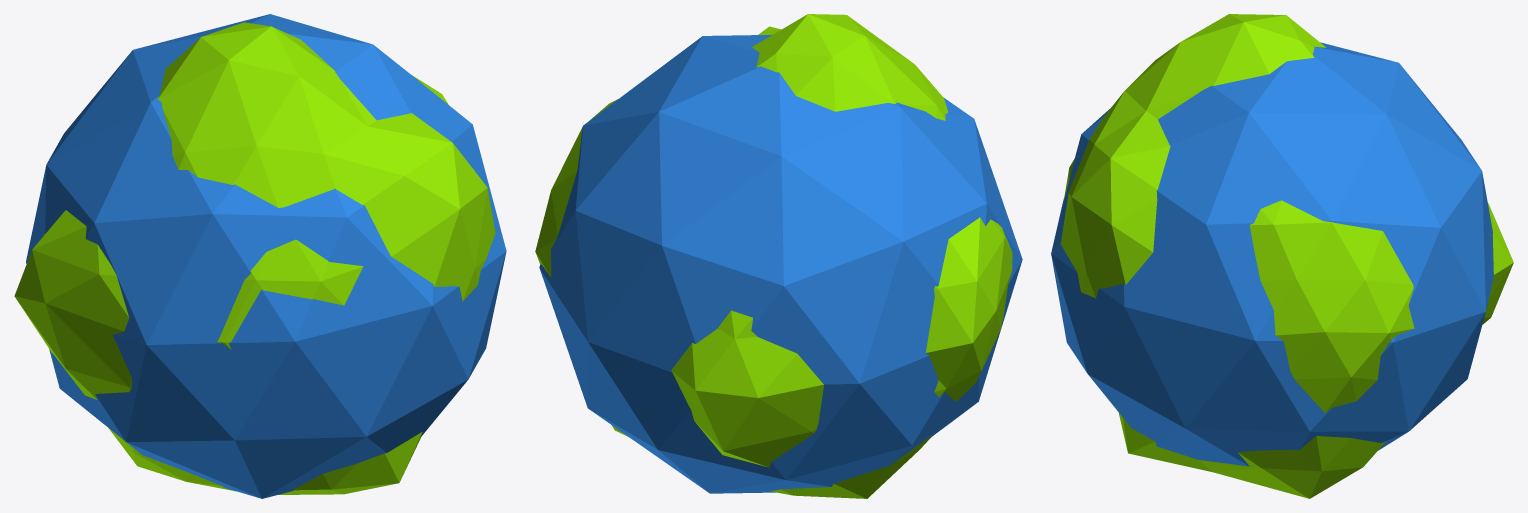
The model's file is Earth.fbx.
The picture shows the model from 3 angles, left to right: view 1: azimuth 30°, elevation 25°; view 2: azimuth 150°, elevation 25°; view 3: azimuth 270°, elevation 25°; orthographic projection. The views are drawn at different scales.
Parts seen in each view (by area): view 1: Icosphere.001, Icosphere.002; view 2: Icosphere.001, Icosphere.002; view 3: Icosphere.001, Icosphere.002.
Boxes of the visible parts, x1=… form: Icosphere.001: x1=26, y1=14, x2=506, y2=498; Icosphere.002: x1=14, y1=22, x2=495, y2=494; Icosphere.001: x1=539, y1=34, x2=1022, y2=493; Icosphere.002: x1=535, y1=14, x2=1012, y2=498; Icosphere.001: x1=1051, y1=42, x2=1493, y2=466; Icosphere.002: x1=1061, y1=14, x2=1513, y2=498.
Size of the model in its own units: 293 by 300 by 287.
